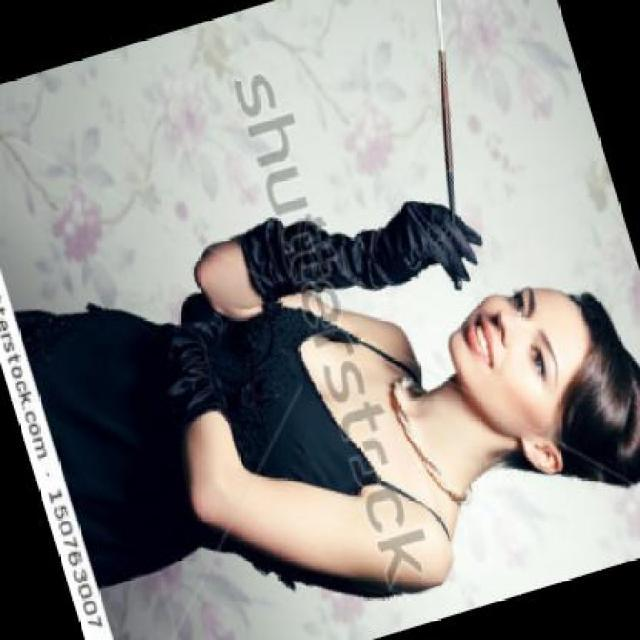smoke: (409, 0, 462, 57)
